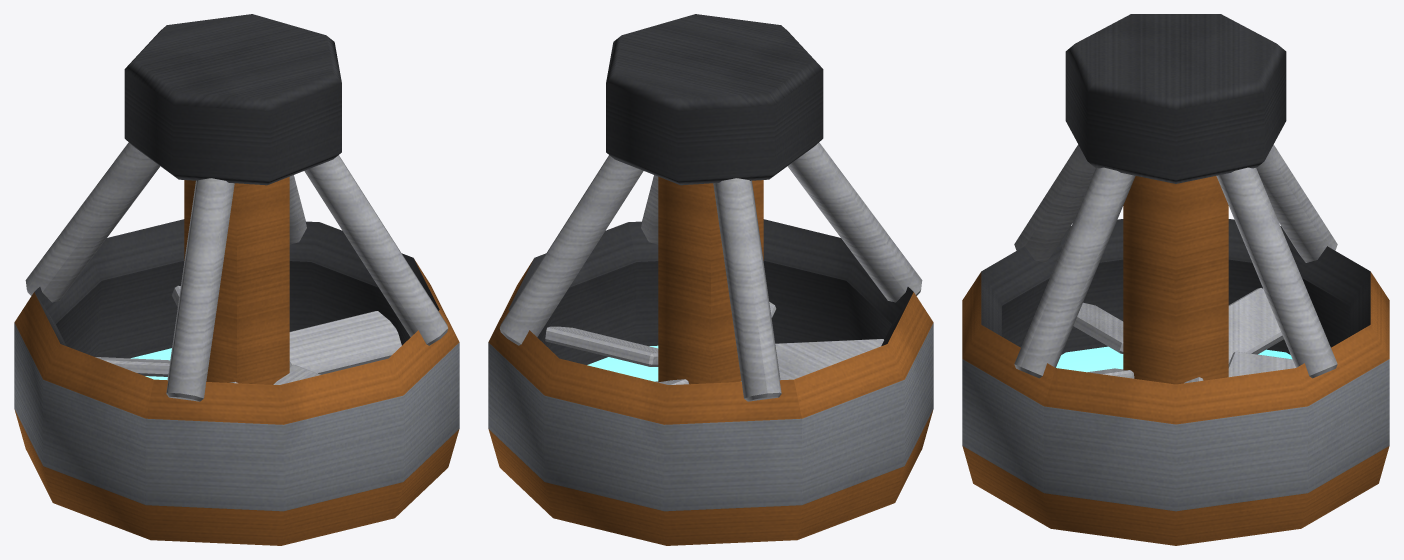
Rendered from R4X_HoverEngine_LOD1.glb.
The picture shows the model from 3 angles, left to right: view 1: azimuth 30°, elevation 25°; view 2: azimuth 150°, elevation 25°; view 3: azimuth 270°, elevation 25°; orthographic projection.
Parts seen in each view (by area): view 1: R4X_HoverEngine_LOD1; view 2: R4X_HoverEngine_LOD1; view 3: R4X_HoverEngine_LOD1.
Part boxes in pixels (bbox=[...]): R4X_HoverEngine_LOD1: bbox=[14, 14, 459, 545]; R4X_HoverEngine_LOD1: bbox=[488, 14, 933, 545]; R4X_HoverEngine_LOD1: bbox=[962, 14, 1389, 545].
Size of the model in its own units: 0.516 by 0.52 by 0.4907.
Materials: 5 (4 with a texture image).
